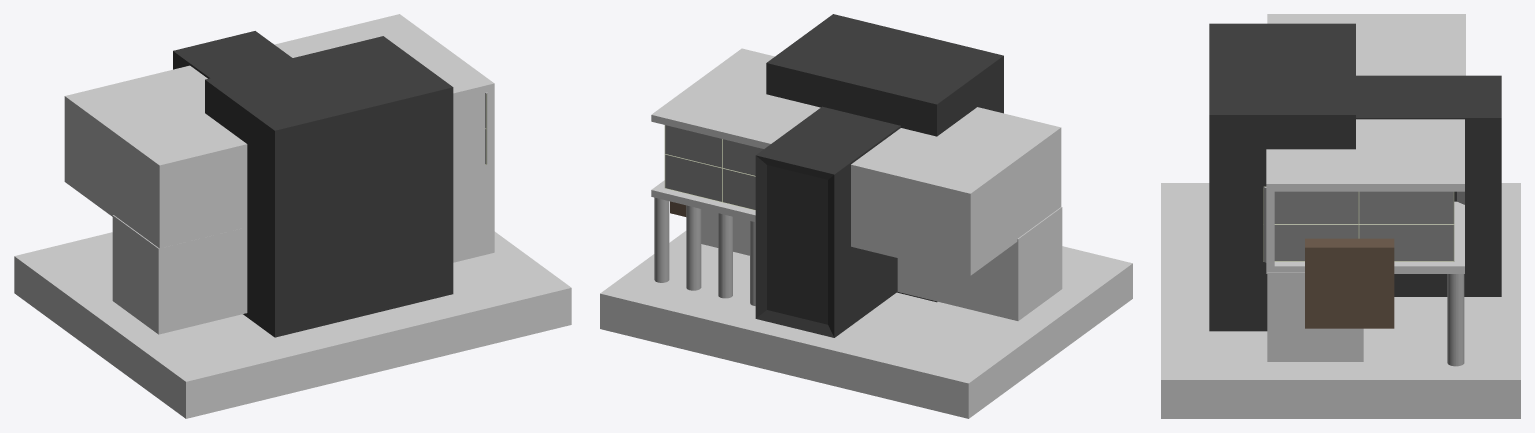
The model's file is house.fbx.
3 renders of one model, left to right at view 1: azimuth 30°, elevation 25°; view 2: azimuth 150°, elevation 25°; view 3: azimuth 270°, elevation 25°, orthographic. The views are drawn at different scales.
Visible parts, largest first — view 1: Cube.002, Plane.001, Cube.003, Cube, Cube.001; view 2: Cube.002, Plane.001, Cube.003, Cube.001, Cube.005, Cube.004, Cylinder, Cube; view 3: Cube.002, Plane.001, Cube.001, Cube.004, Plane, Cube.003, Cube, Cylinder.
Part boxes in pixels (x1,y1,x2,y2): Cube.002: (173, 31, 453, 337); Plane.001: (14, 231, 571, 418); Cube.003: (64, 65, 247, 248); Cube: (112, 169, 494, 334); Cube.001: (274, 14, 494, 179); Cube.002: (755, 14, 1003, 337); Plane.001: (600, 231, 1132, 418); Cube.003: (851, 107, 1061, 275); Cube.001: (651, 48, 820, 222); Cube.005: (701, 209, 1018, 320); Cube.004: (664, 125, 763, 210); Cylinder: (654, 197, 755, 305); Cube: (1018, 207, 1062, 320); Cube.002: (1209, 23, 1501, 331); Plane.001: (1161, 183, 1520, 418); Cube.001: (1264, 119, 1464, 273); Cube.004: (1263, 186, 1454, 261); Plane: (1305, 238, 1394, 328); Cube.003: (1267, 14, 1465, 75); Cube: (1267, 272, 1363, 361); Cylinder: (1447, 274, 1464, 366).
Size of the model in its own units: 1043 by 630 by 805.
